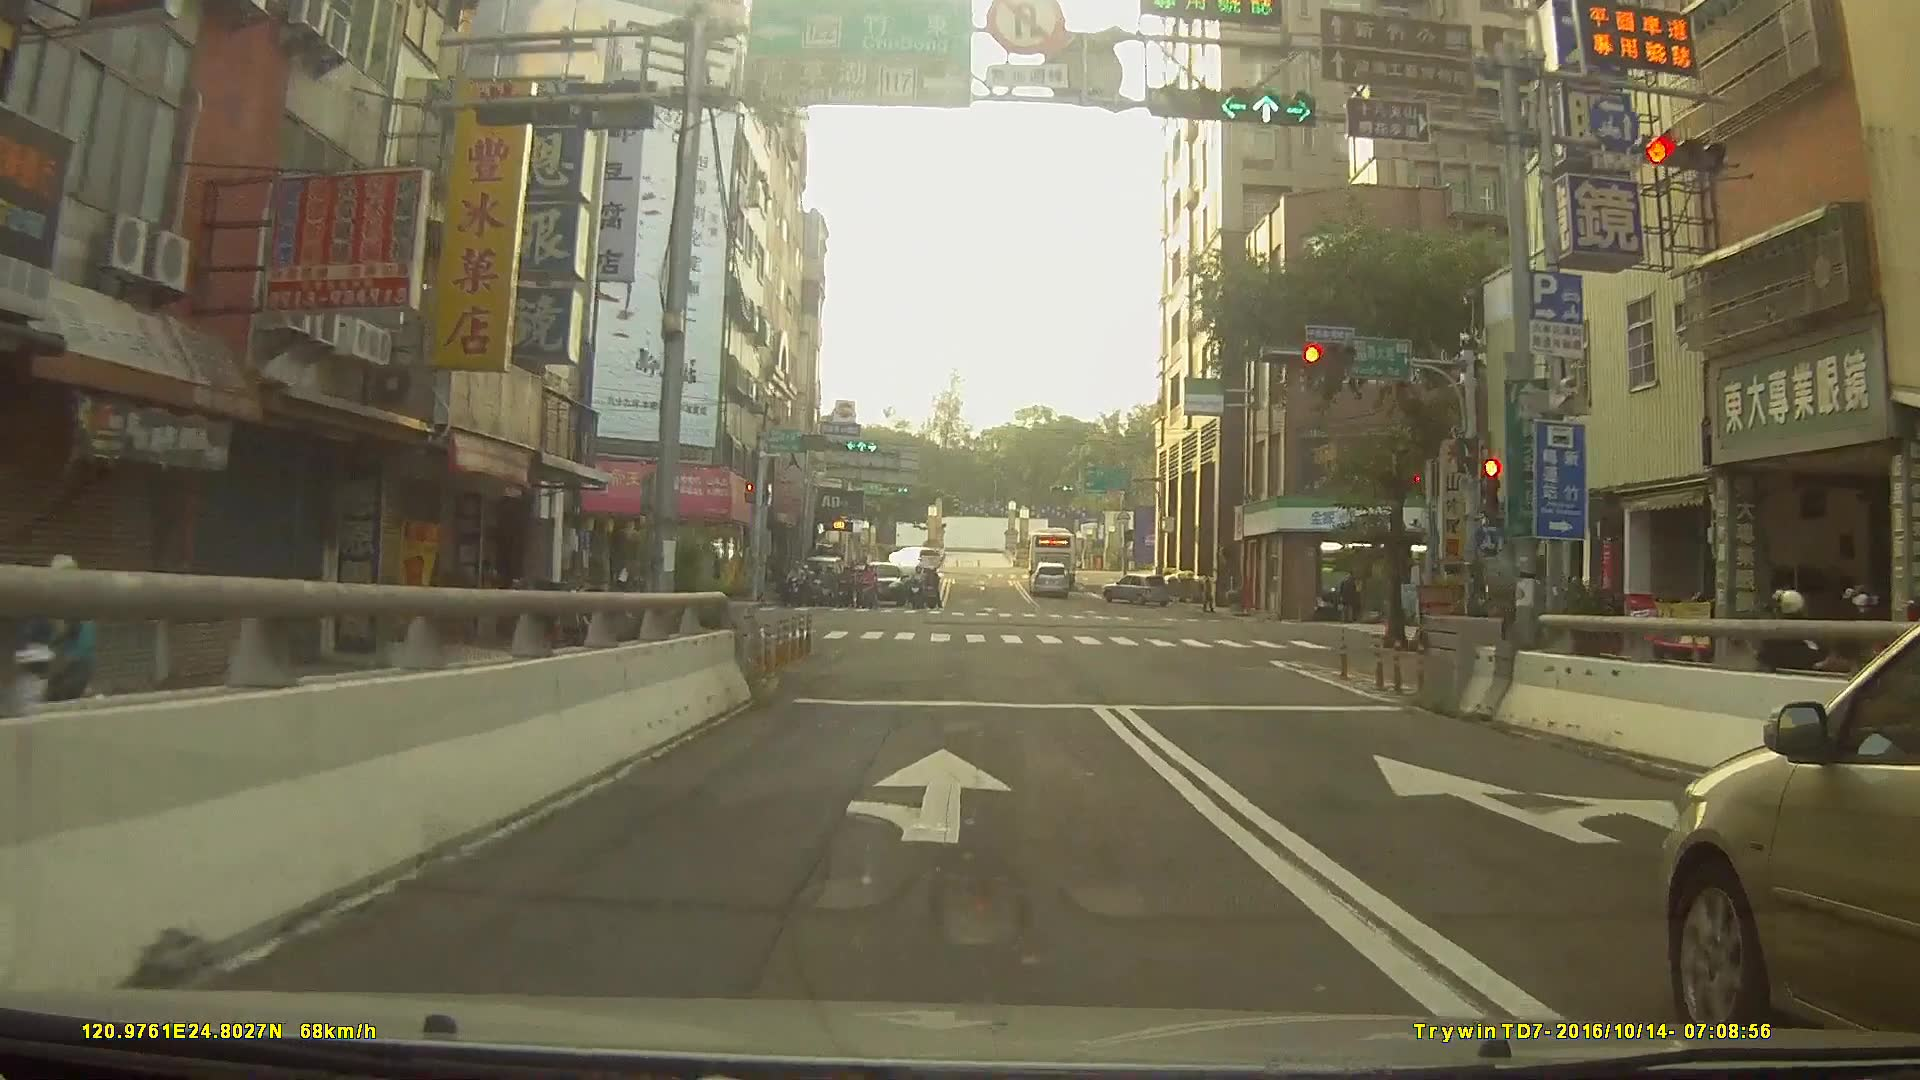pedestrian: (1338, 572, 1361, 627), (1199, 585, 1219, 615)
rider: (1, 555, 104, 772)
vehicle: (1661, 616, 1920, 1039), (1024, 531, 1079, 581), (1101, 571, 1174, 606), (857, 561, 906, 607), (885, 544, 941, 572), (1030, 564, 1073, 599)
